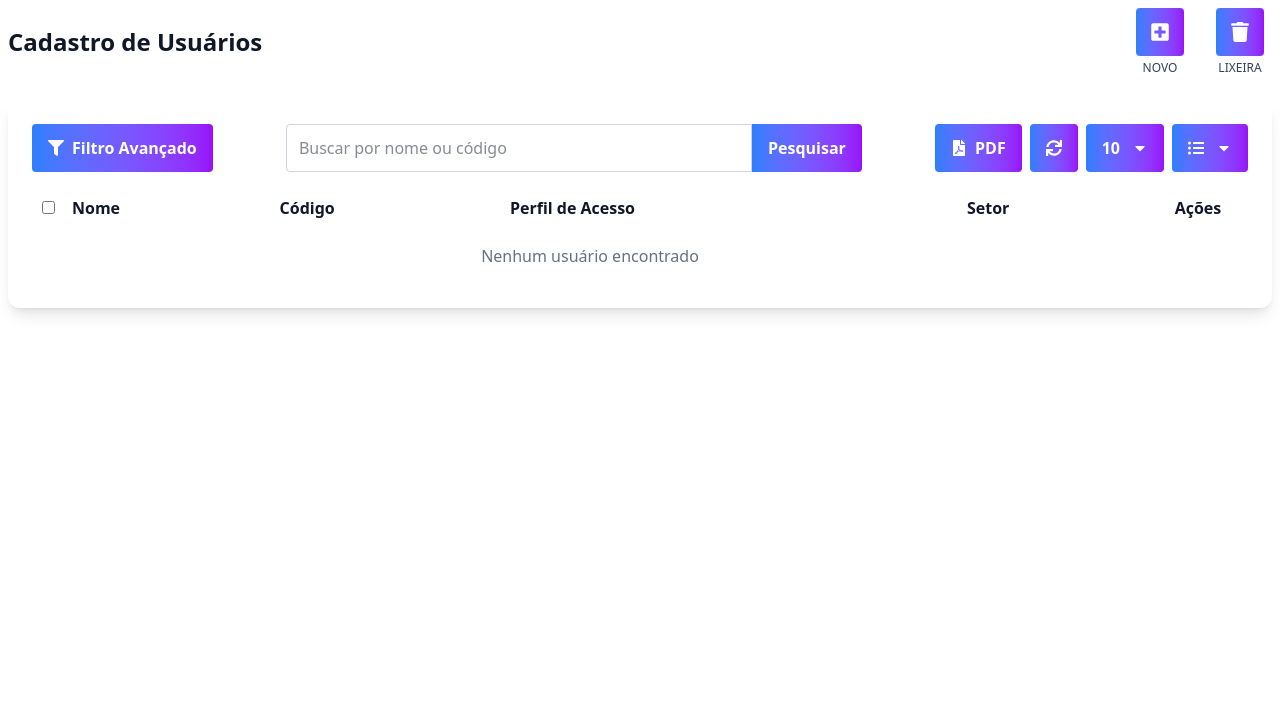
Scenario: Usuários Page › Form Interactions › opens form when clicking new button
Click the button titled "Novo" at (1160, 32), box [1136,8,1184,56]
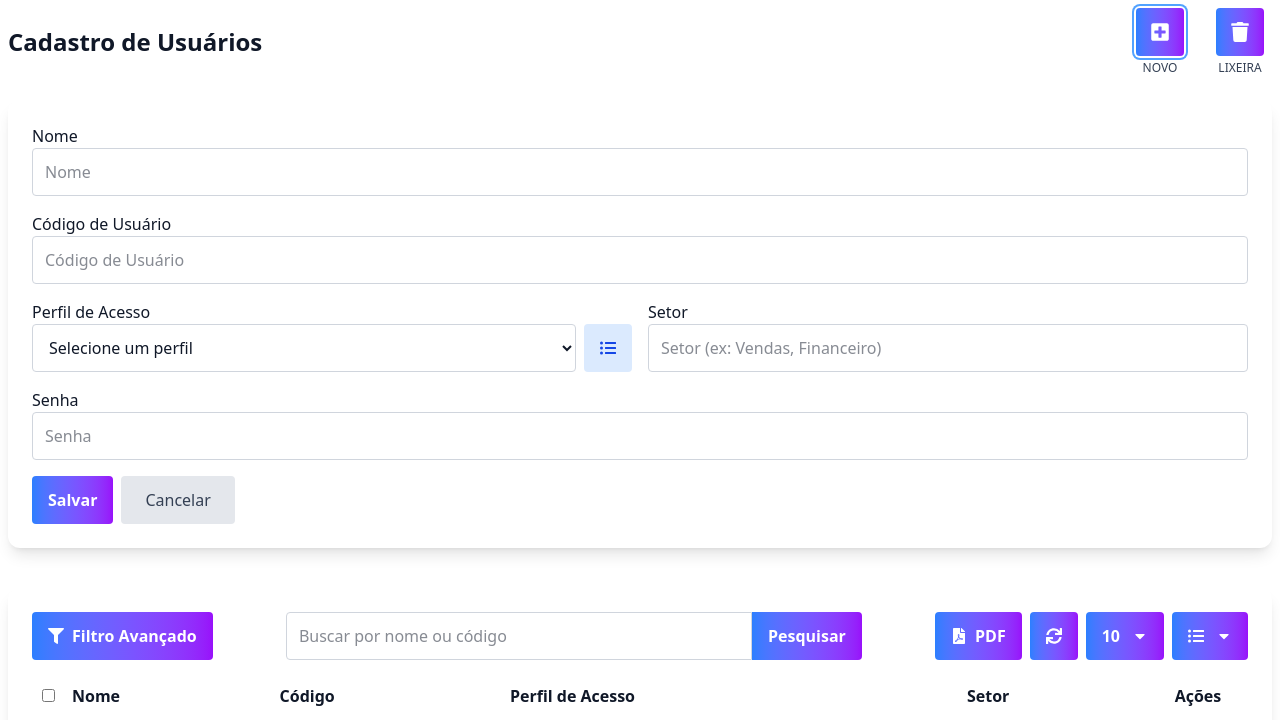
expect the field labelled "Nome" is shown: met, box [32,148,1248,196]
expect the field labelled "Código de Usuário" is shown: met, box [32,236,1248,284]
expect the field labelled "Setor" is shown: met, box [648,324,1248,372]
